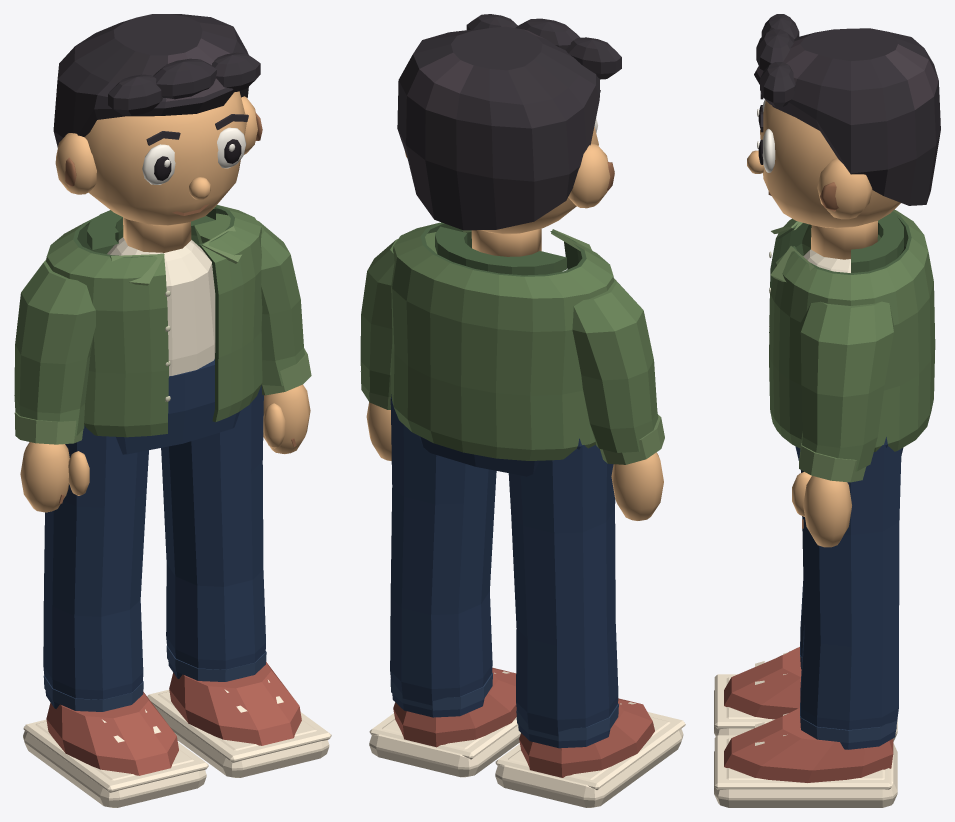
File: campus_visitor_man_v01.glb
The picture shows the model from 3 angles, left to right: view 1: azimuth 30°, elevation 25°; view 2: azimuth 150°, elevation 25°; view 3: azimuth 270°, elevation 25°; orthographic projection. The views are drawn at different scales.
Visible parts, largest first — view 1: campus_visitor_man; view 2: campus_visitor_man; view 3: campus_visitor_man.
Part boxes in pixels (left/top/right/bottom): campus_visitor_man: left=14, top=14, right=331, bottom=807; campus_visitor_man: left=360, top=14, right=685, bottom=807; campus_visitor_man: left=714, top=14, right=940, bottom=807.
Bounding box in the file's own units: 0.7738 × 1.81 × 0.5191.
Materials: 1 (1 with a texture image).
